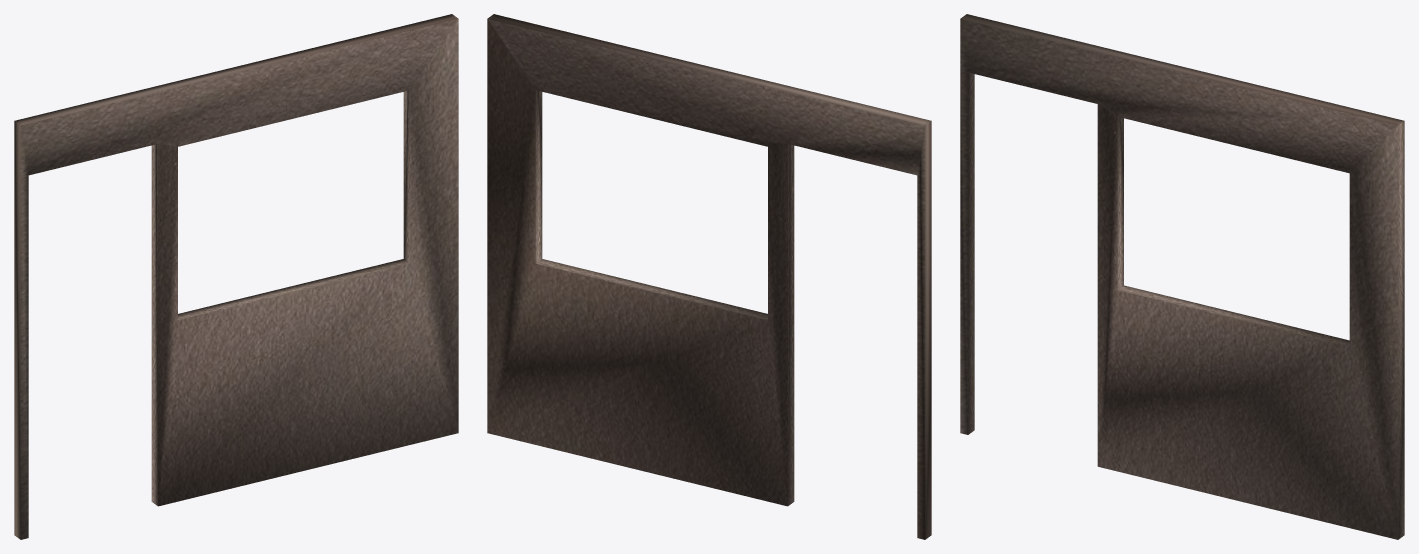
The model's file is Parede Audio1.fbx.
The picture shows the model from 3 angles, left to right: view 1: azimuth 30°, elevation 25°; view 2: azimuth 150°, elevation 25°; view 3: azimuth 330°, elevation 25°; orthographic projection.
Visible parts, largest first — view 1: parede audio T 01.001; view 2: parede audio T 01.001; view 3: parede audio T 01.001.
Part boxes in pixels (x1,y1,x2,y2): parede audio T 01.001: (14,14,458,539); parede audio T 01.001: (487,14,931,539); parede audio T 01.001: (960,14,1404,539).
Bounding box in the file's own units: 4.14 × 3.74 × 0.1066.
Materials: 1 (1 with a texture image).
